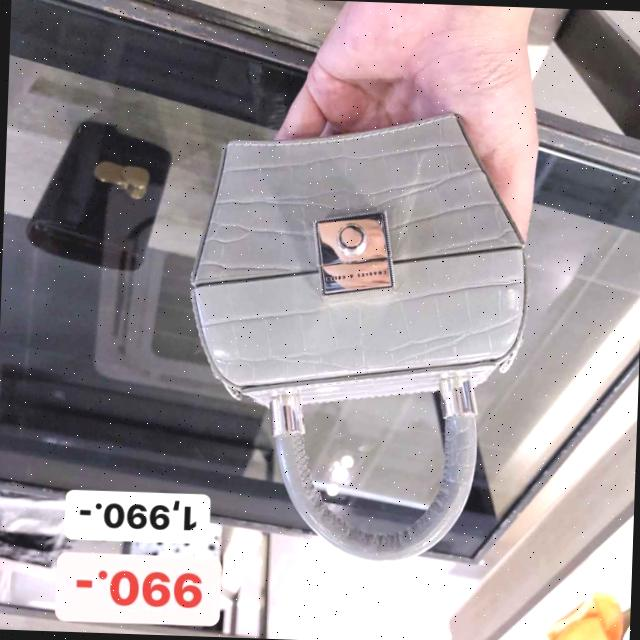Handbag: (188, 95, 520, 442)
